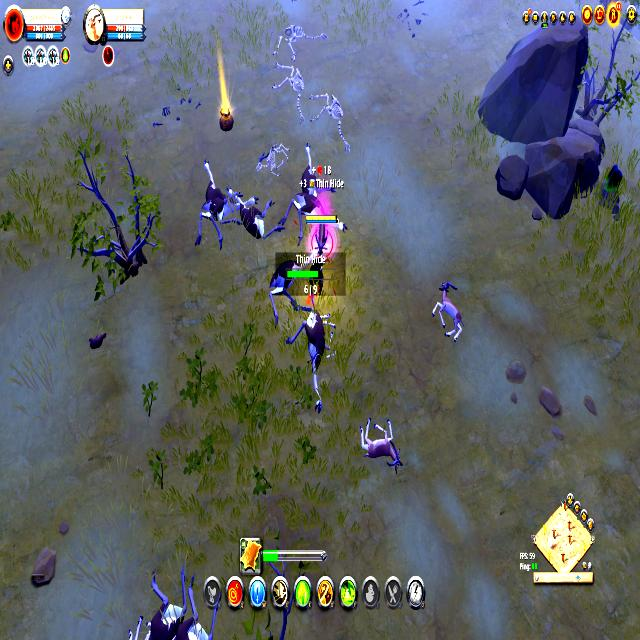mob: (279, 141, 346, 242), (128, 565, 211, 639), (286, 296, 329, 418), (266, 249, 310, 329), (226, 180, 284, 240), (194, 155, 228, 251), (356, 412, 406, 474), (430, 277, 466, 342)
ore: (310, 214, 334, 258)
player: (594, 158, 624, 216)
red: (307, 213, 338, 295)
